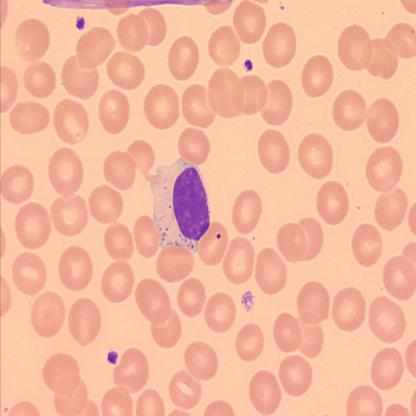Lymphocyte: (149, 155, 211, 254)
